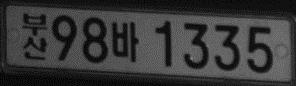1: (151, 21, 178, 67)
3: (213, 24, 240, 71), (183, 22, 209, 69)
5: (246, 26, 273, 74)
8: (81, 15, 108, 64)
9: (50, 13, 77, 60)
바: (110, 20, 139, 62)
부산_V: (21, 12, 47, 60)
